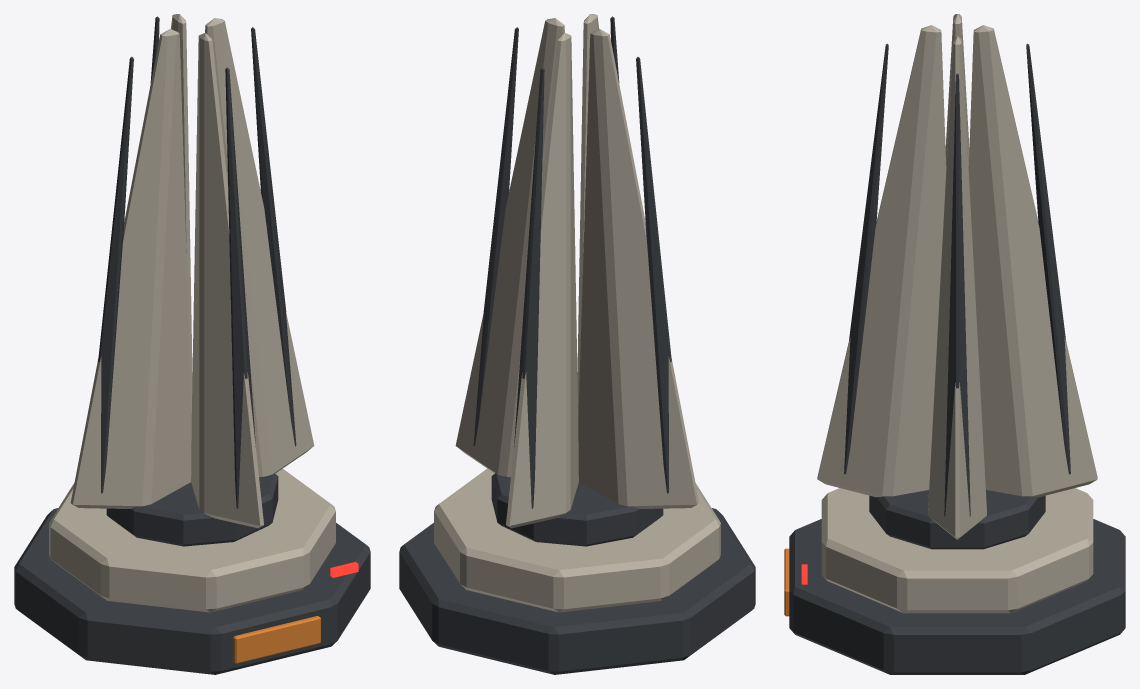
Rendered from TC_PROP_Beacon_Dormant_V1.glb.
3 views of the same model, side by side, from view 1: azimuth 30°, elevation 25°; view 2: azimuth 150°, elevation 25°; view 3: azimuth 270°, elevation 25° (orthographic).
Visible parts, largest first — view 1: TC_Beacon_Petal_2, TC_Beacon_Plinth, TC_Beacon_Ring, TC_Beacon_Petal_3, TC_Beacon_Petal_0, TC_Beacon_Mount, TC_Beacon_PetalSpine_3, TC_Beacon_PetalSpine_2, TC_Beacon_PetalSpine_0, TC_Beacon_WarnPlate, TC_Beacon_Petal_1; view 2: TC_Beacon_Petal_2, TC_Beacon_Plinth, TC_Beacon_Ring, TC_Beacon_Petal_1, TC_Beacon_Petal_0, TC_Beacon_Mount, TC_Beacon_PetalSpine_1, TC_Beacon_PetalSpine_2, TC_Beacon_PetalSpine_0, TC_Beacon_Petal_3; view 3: TC_Beacon_Petal_3, TC_Beacon_Petal_1, TC_Beacon_Plinth, TC_Beacon_Ring, TC_Beacon_Petal_0, TC_Beacon_Mount, TC_Beacon_PetalSpine_0, TC_Beacon_PetalSpine_1, TC_Beacon_PetalSpine_3, TC_Beacon_Petal_2.
Boxes of the visible parts, x1,y1,x2,y2 form: TC_Beacon_Petal_2: (70,29,191,508); TC_Beacon_Plinth: (14,508,370,674); TC_Beacon_Ring: (49,468,335,612); TC_Beacon_Petal_3: (191,33,263,528); TC_Beacon_Petal_0: (205,18,314,477); TC_Beacon_Mount: (106,473,278,546); TC_Beacon_PetalSpine_3: (225,67,255,508); TC_Beacon_PetalSpine_2: (98,57,133,493); TC_Beacon_PetalSpine_0: (251,27,296,446); TC_Beacon_WarnPlate: (233,616,320,663); TC_Beacon_Petal_1: (171,14,192,413); TC_Beacon_Petal_2: (578,29,699,508); TC_Beacon_Plinth: (399,508,755,674); TC_Beacon_Ring: (434,468,720,612); TC_Beacon_Petal_1: (506,33,578,528); TC_Beacon_Petal_0: (455,18,564,477); TC_Beacon_Mount: (491,473,663,546); TC_Beacon_PetalSpine_1: (514,67,544,508); TC_Beacon_PetalSpine_2: (636,57,671,493); TC_Beacon_PetalSpine_0: (473,27,518,446); TC_Beacon_Petal_3: (577,14,598,413); TC_Beacon_Petal_3: (817,25,946,497); TC_Beacon_Petal_1: (968,25,1097,497); TC_Beacon_Plinth: (789,519,1125,674); TC_Beacon_Ring: (821,488,1093,613); TC_Beacon_Petal_0: (928,36,986,539); TC_Beacon_Mount: (869,490,1045,549); TC_Beacon_PetalSpine_0: (944,73,970,516); TC_Beacon_PetalSpine_1: (1026,43,1070,474); TC_Beacon_PetalSpine_3: (844,43,888,474); TC_Beacon_Petal_2: (945,14,969,165).
Size of the model in its own units: 1.15 by 2.18 by 1.16.
